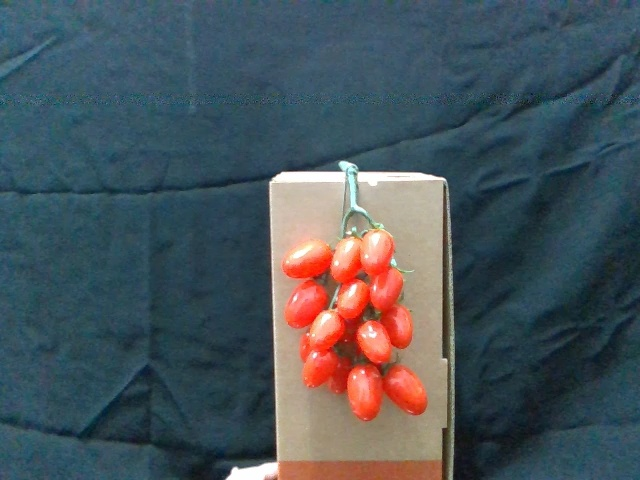tomato: (383, 362, 431, 417), (283, 278, 329, 329), (349, 363, 385, 423), (282, 240, 334, 280), (356, 317, 393, 367), (380, 302, 415, 350), (310, 310, 347, 355), (368, 266, 404, 312), (302, 347, 339, 391), (336, 277, 372, 322), (361, 228, 395, 275), (332, 236, 363, 284)
